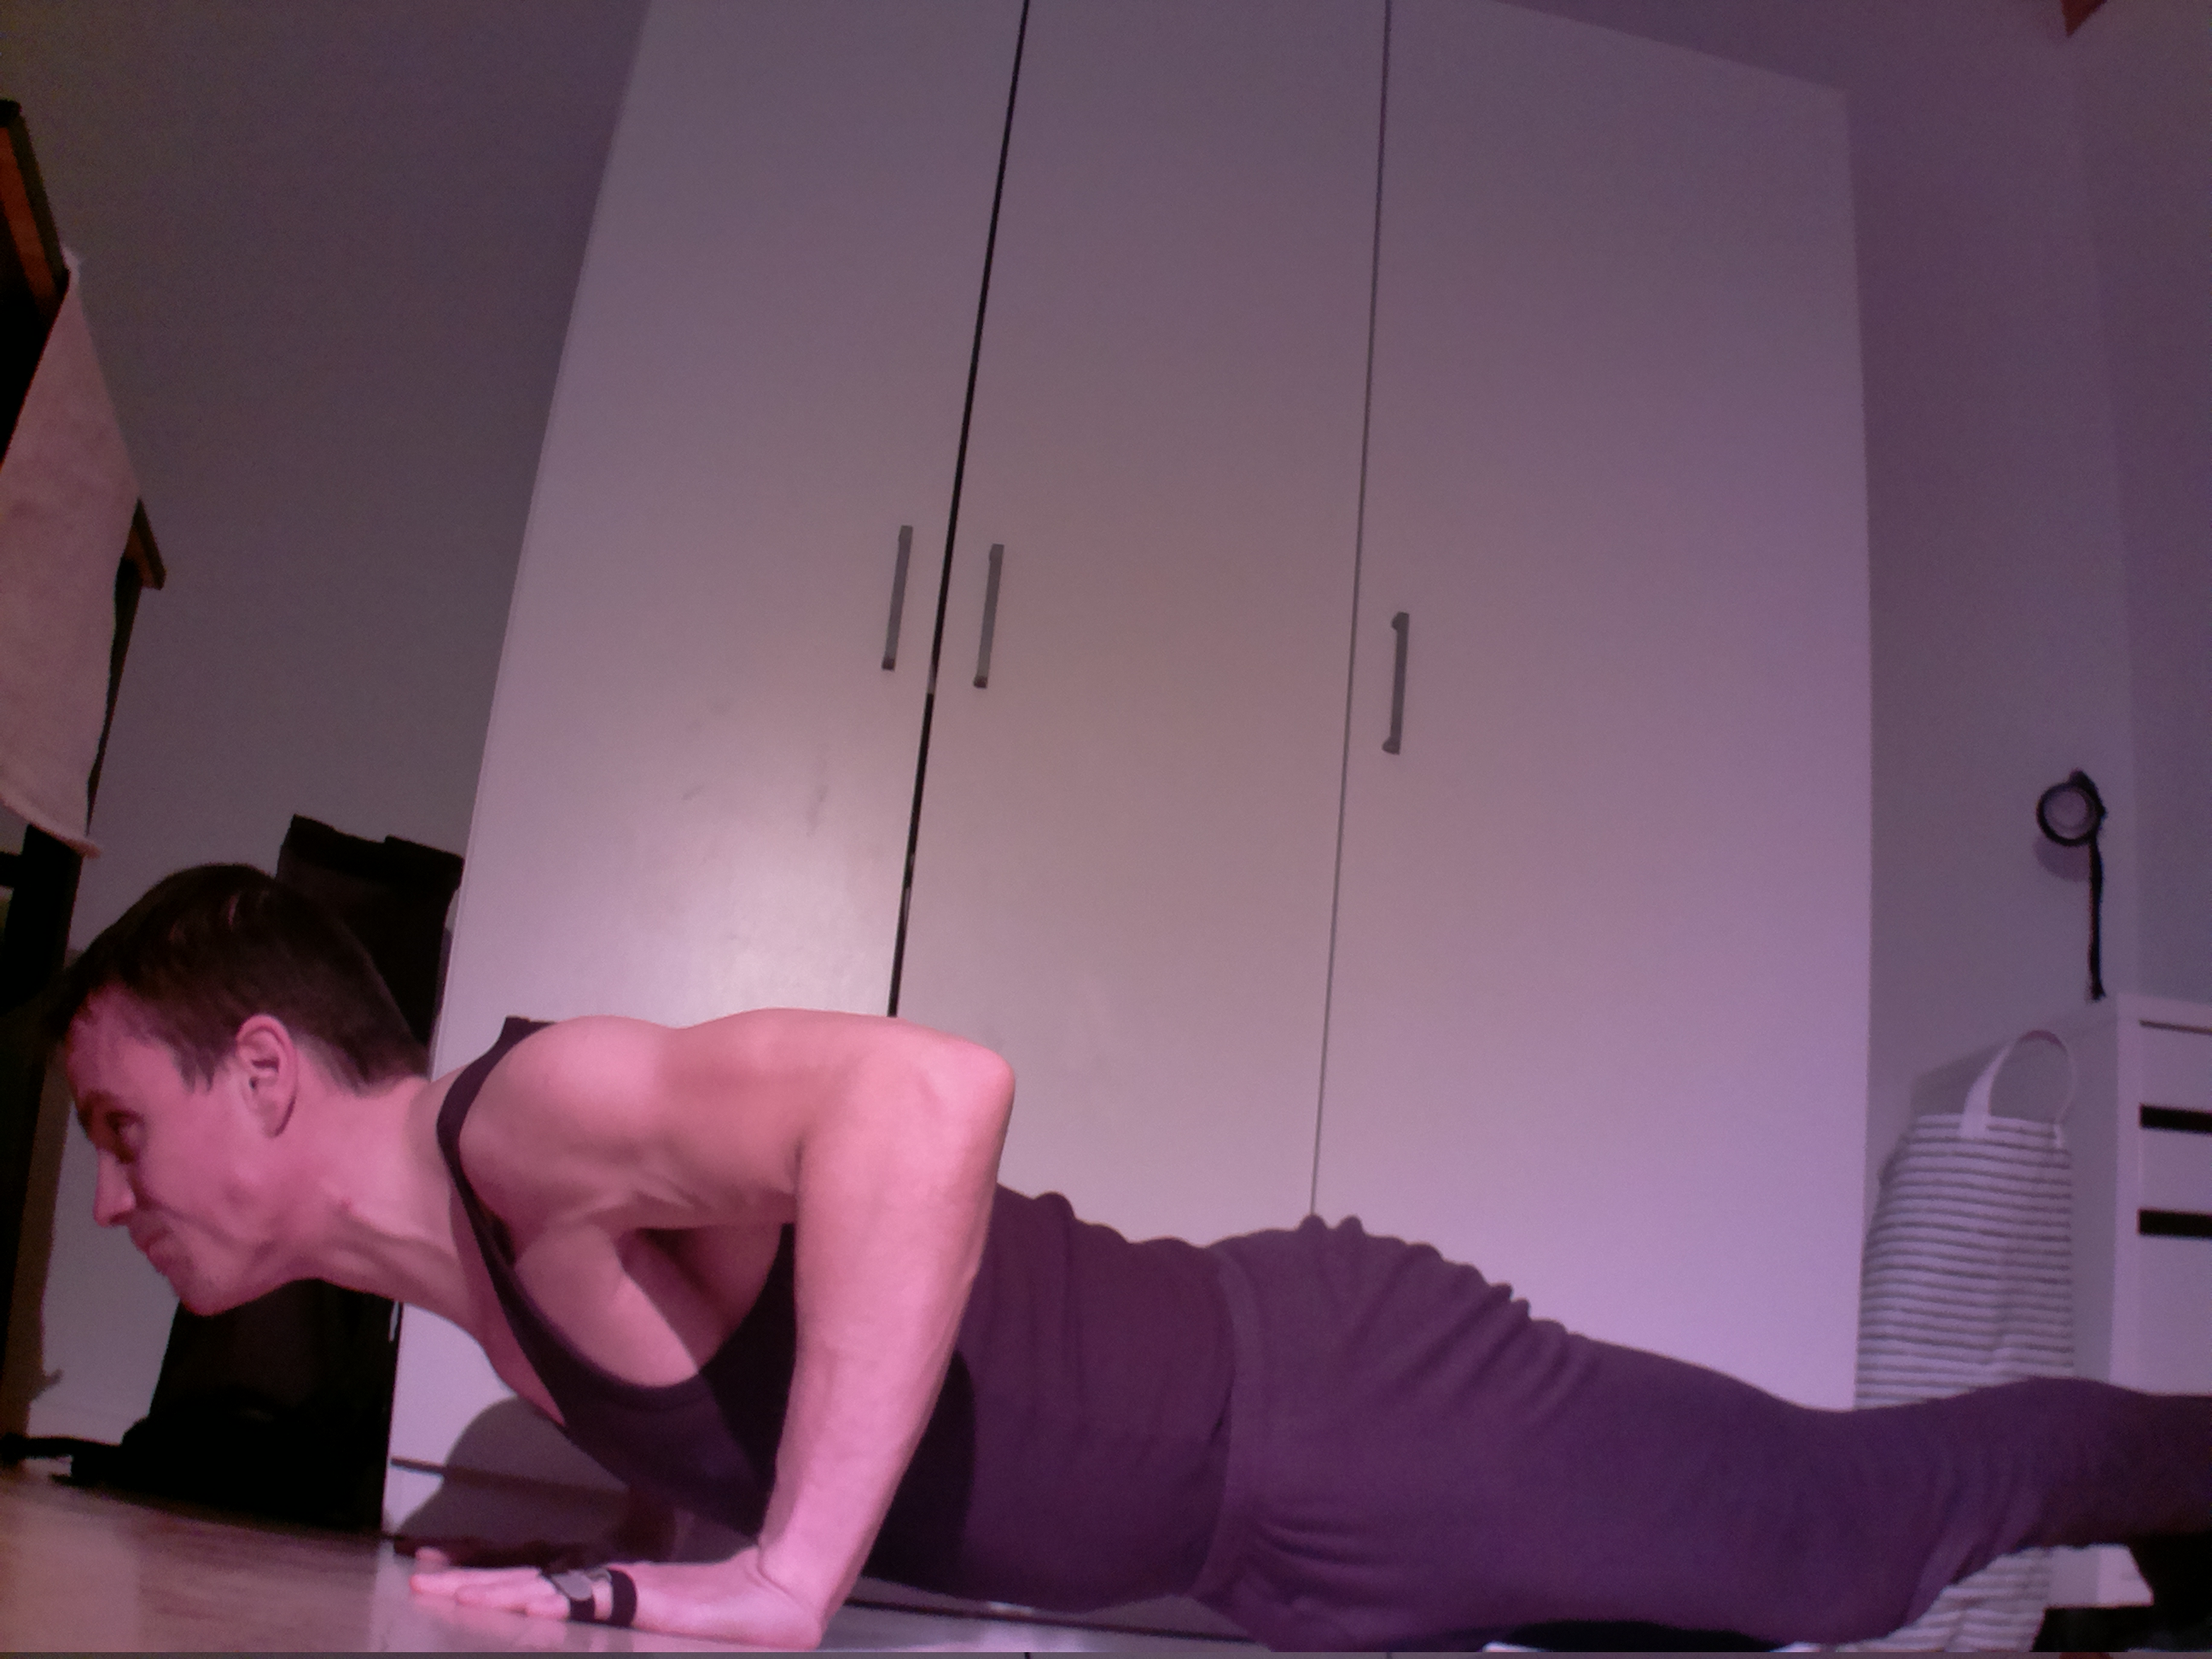CONAN: (45, 856, 1426, 1656)
